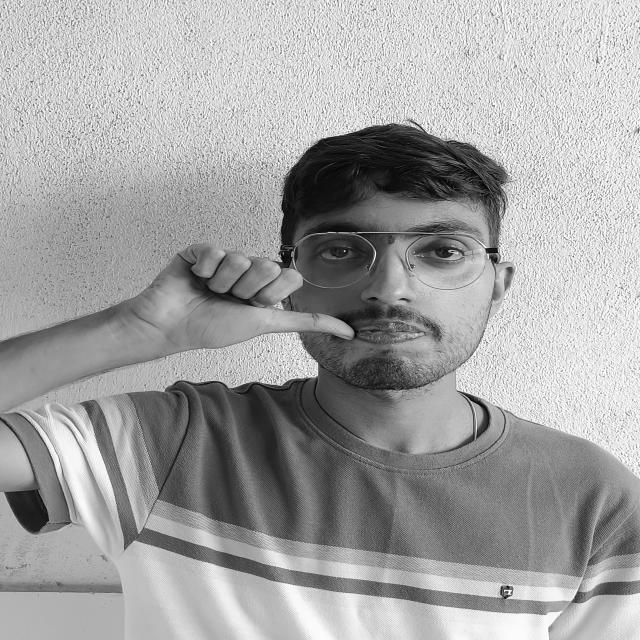Drink: (120, 234, 363, 375)
